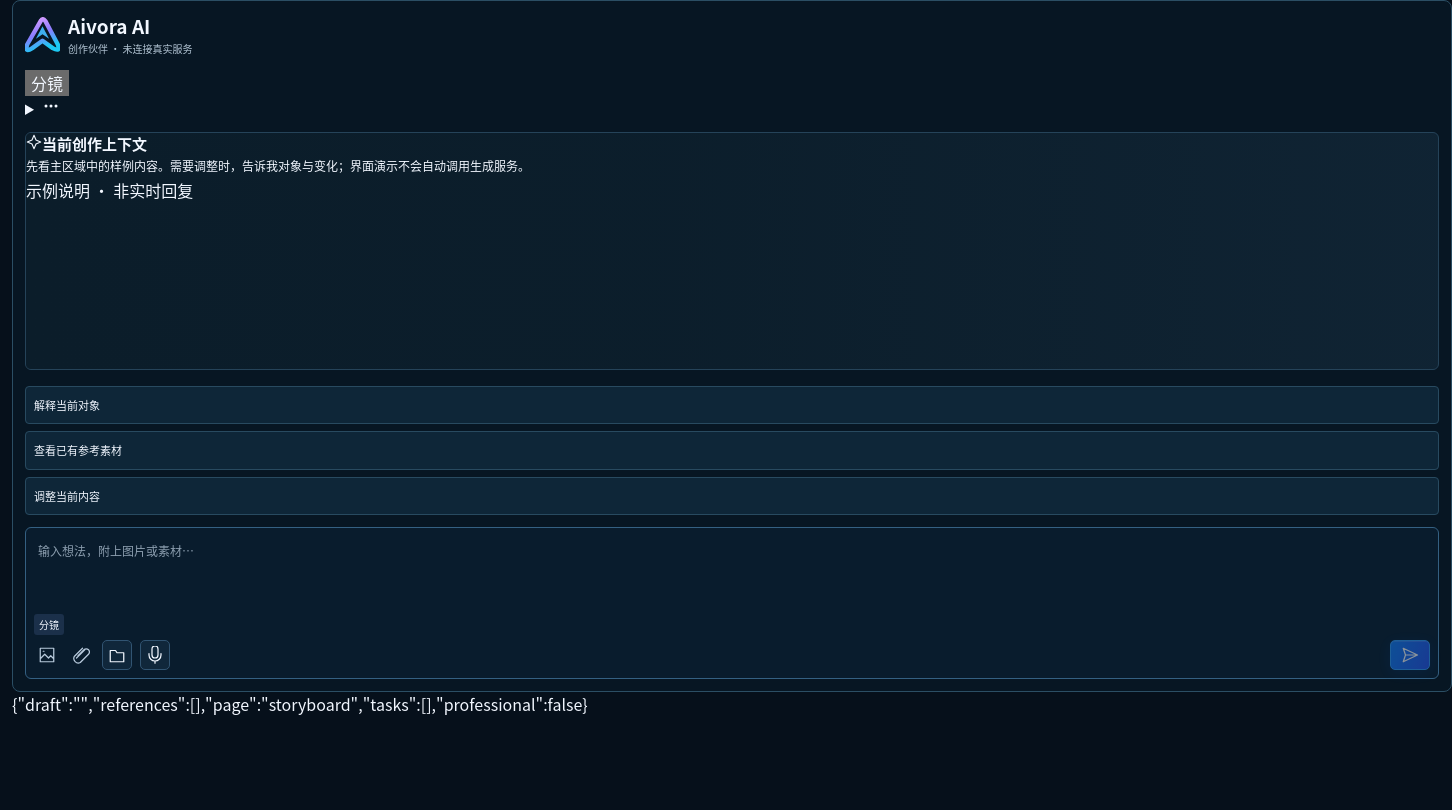
C19 assistant real interaction boundaries › uses the composer context control to show the selected project context
Click the 2nd button "分镜" at x=49, y=625, box [34,614,64,635]
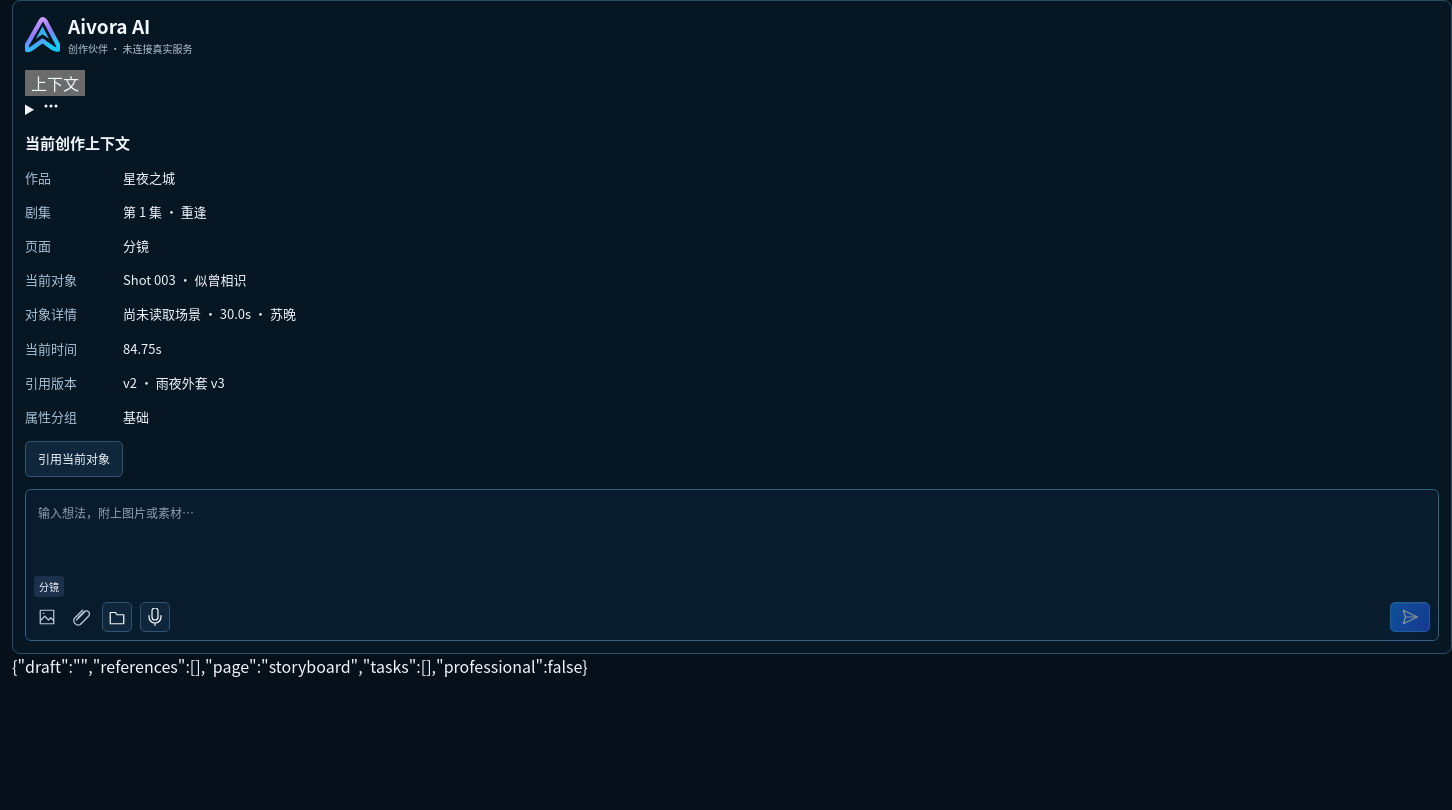
Expected: the heading "当前创作上下文" is shown, [25,132,130,153]
Expected: the text "当前时间" is shown, [25,339,77,358]
Expected: the text "引用版本" is shown, [25,373,77,392]
